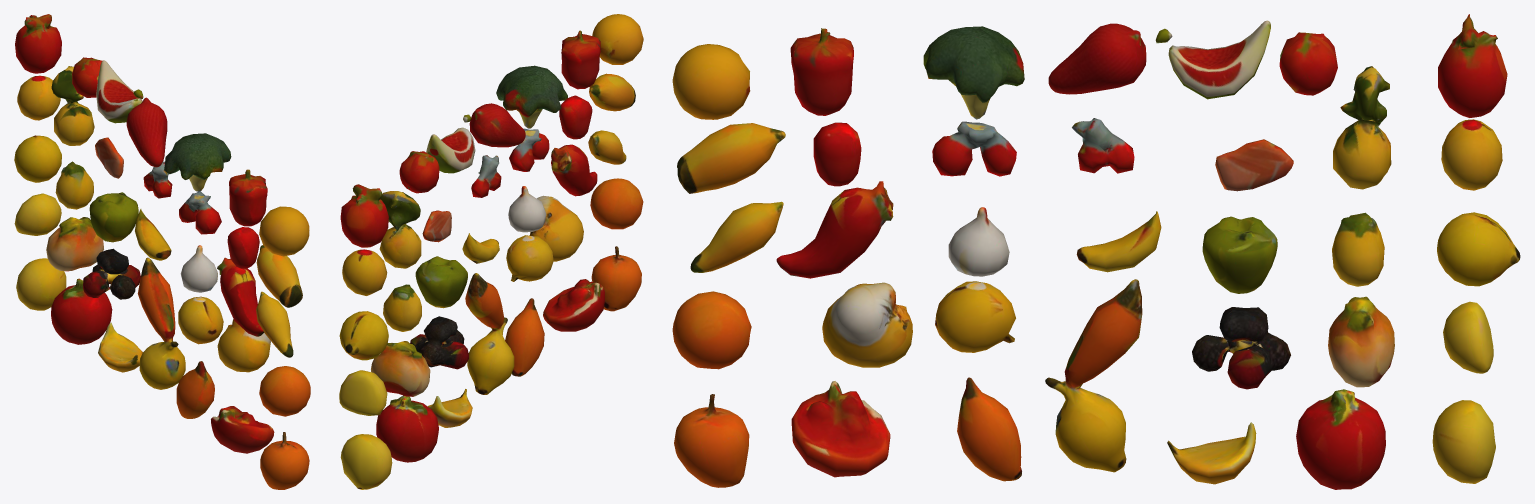
Rendered from food.fbx.
The picture shows the model from 3 angles, left to right: view 1: azimuth 30°, elevation 25°; view 2: azimuth 150°, elevation 25°; view 3: azimuth 270°, elevation 25°; orthographic projection. The views are drawn at different scales.
Parts seen in each view (by area): view 1: tripo_node_fd8808ee-36be-4aee-b62c-968a7e9026bc; view 2: tripo_node_fd8808ee-36be-4aee-b62c-968a7e9026bc; view 3: tripo_node_fd8808ee-36be-4aee-b62c-968a7e9026bc.
Boxes of the visible parts, left/top/right/bottom form: tripo_node_fd8808ee-36be-4aee-b62c-968a7e9026bc: left=14, top=14, right=310, bottom=489; tripo_node_fd8808ee-36be-4aee-b62c-968a7e9026bc: left=339, top=14, right=643, bottom=489; tripo_node_fd8808ee-36be-4aee-b62c-968a7e9026bc: left=672, top=14, right=1520, bottom=489.
Bounding box in the file's own units: 13.67 × 57.05 × 94.75.
1 material, 1 textured.
